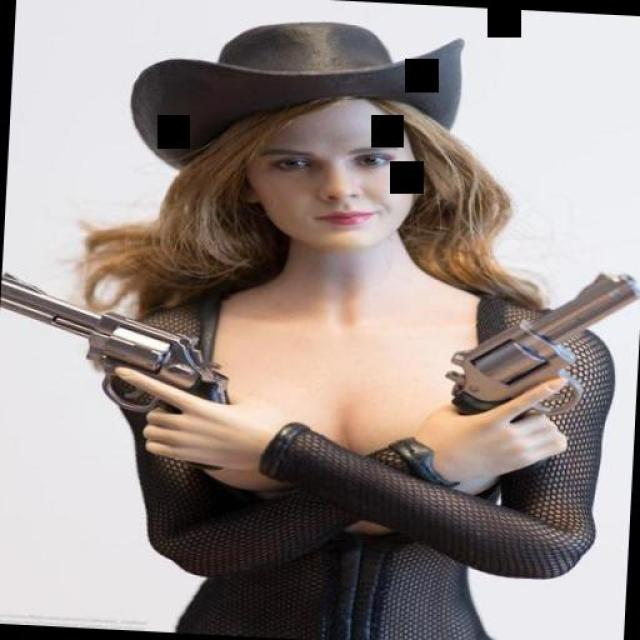gun: (0, 265, 249, 430), (439, 253, 640, 438)
